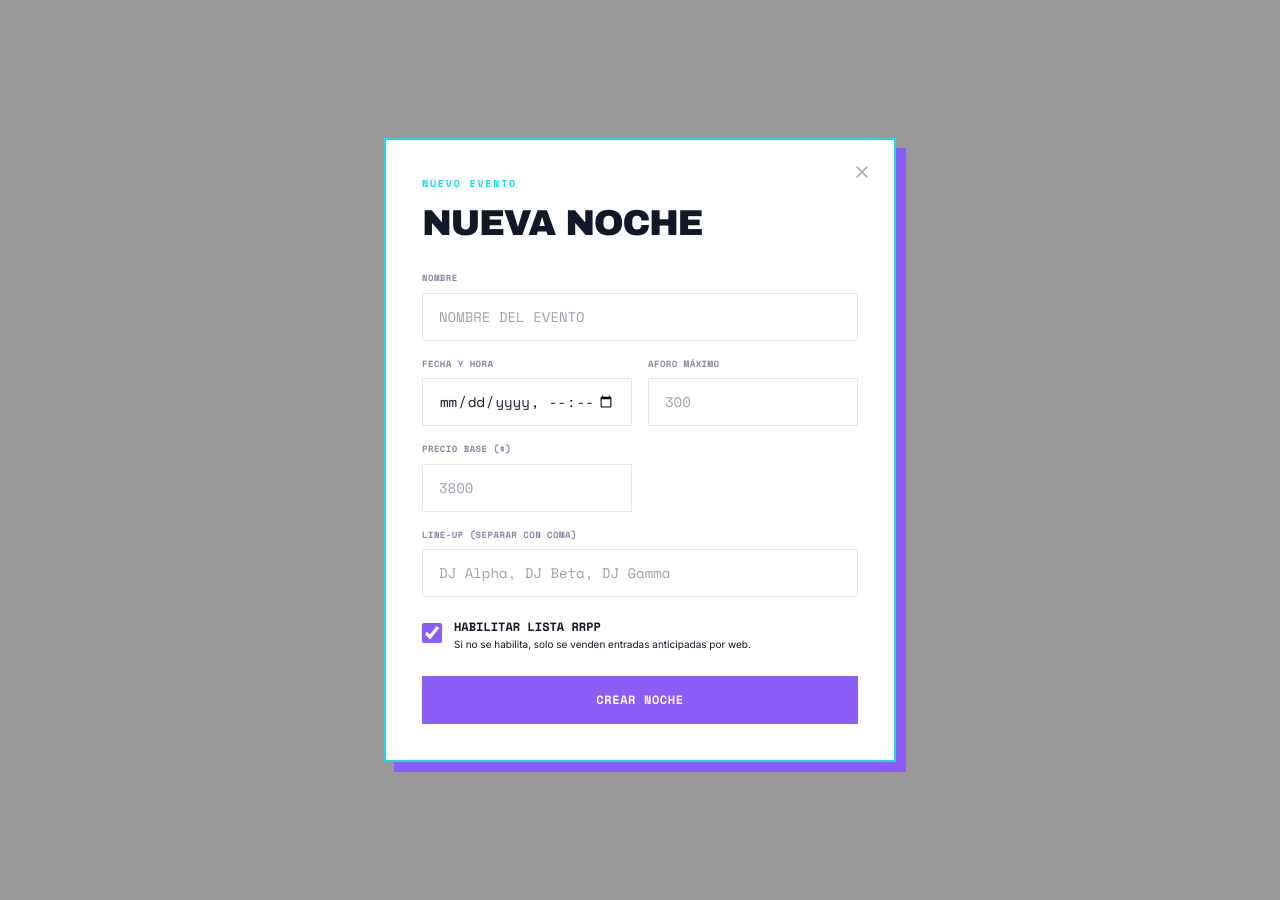
Test: NocheFormModal › error handling › shows API error on 405
Type "X" into the field with test id "input-nombre" at (640, 316), box [422,292,858,340]
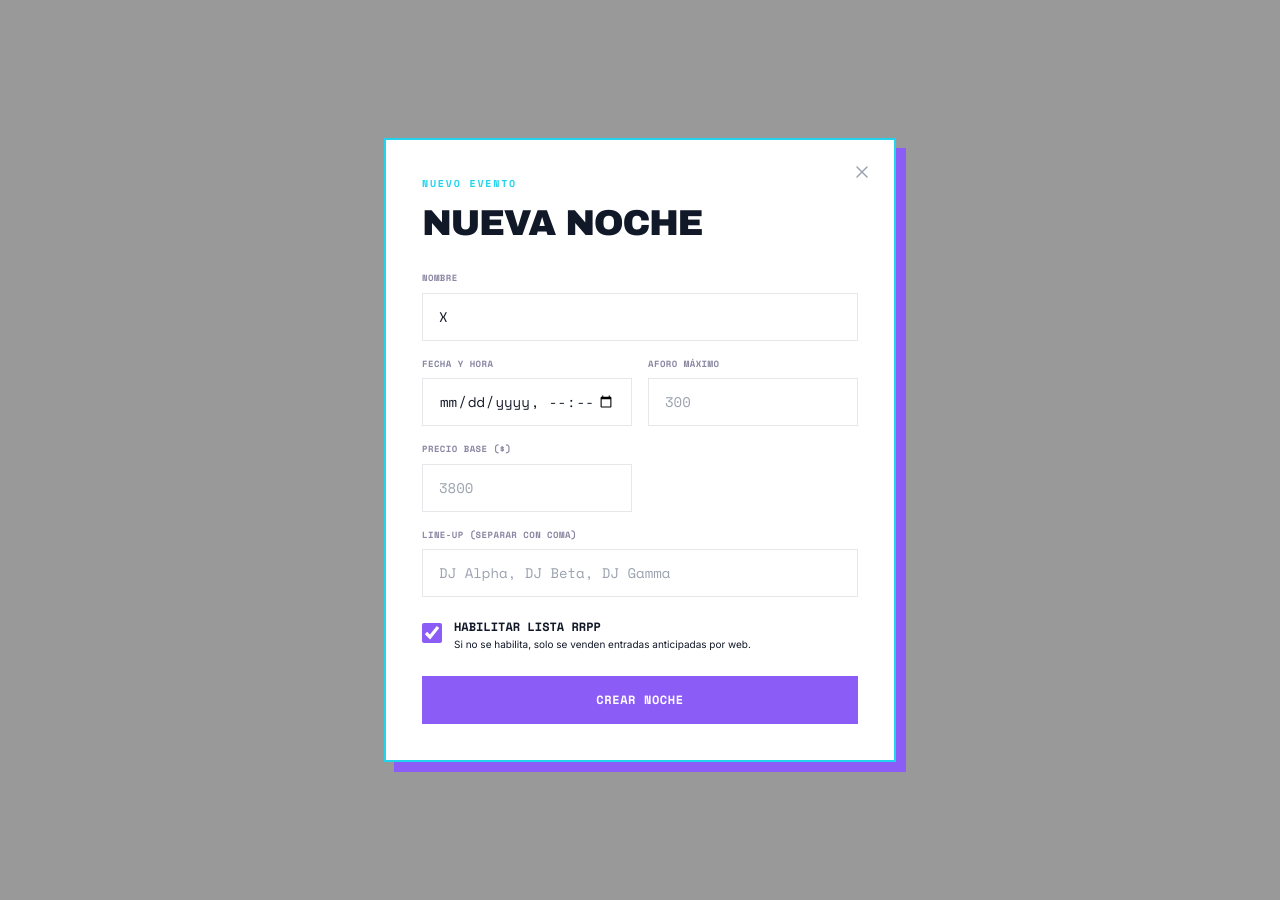
Type "2026-09-01T23:00" into the field with test id "input-fecha" at (527, 402), box [422,378,632,426]
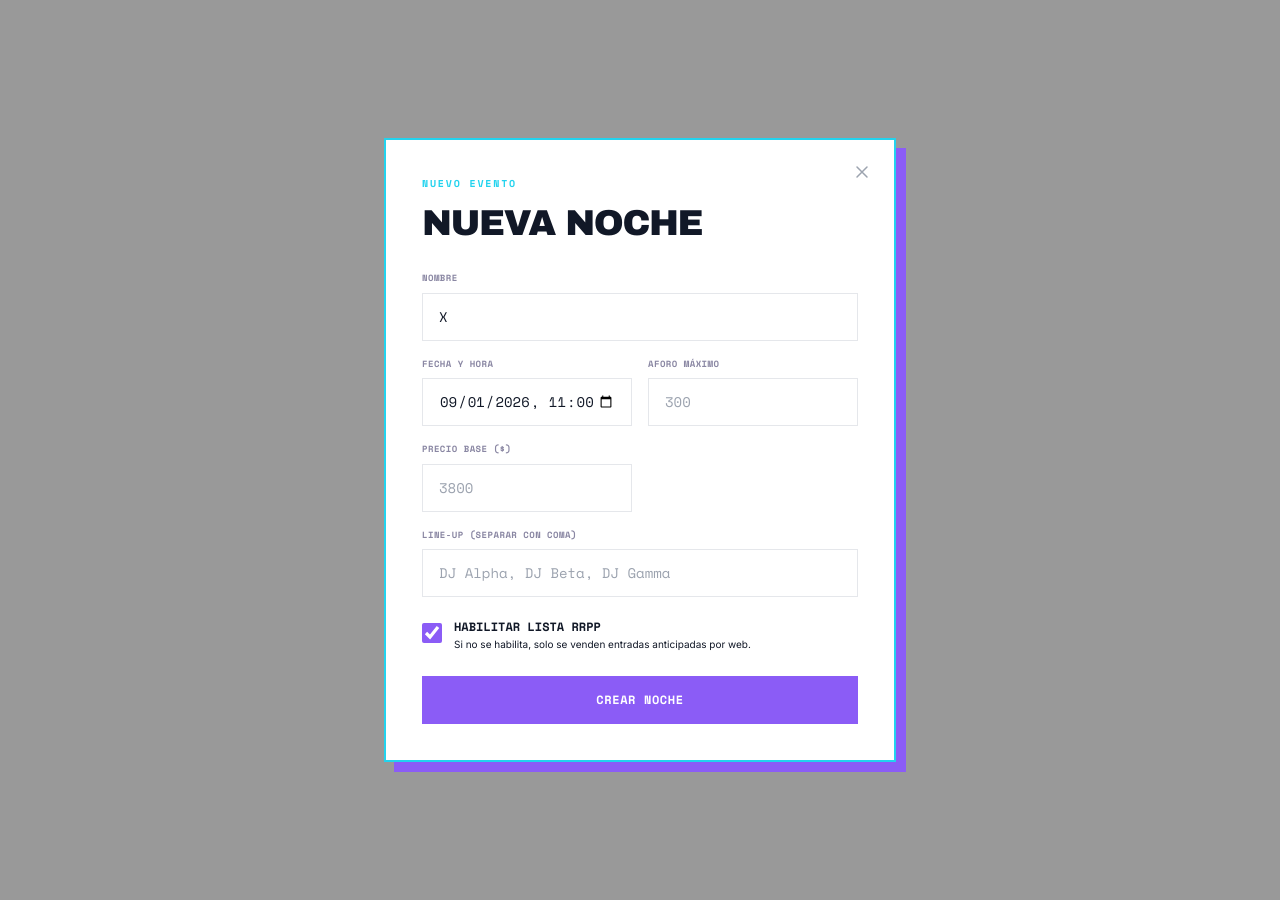
Type "100" into the field with test id "input-aforo" at (753, 402), box [648,378,858,426]
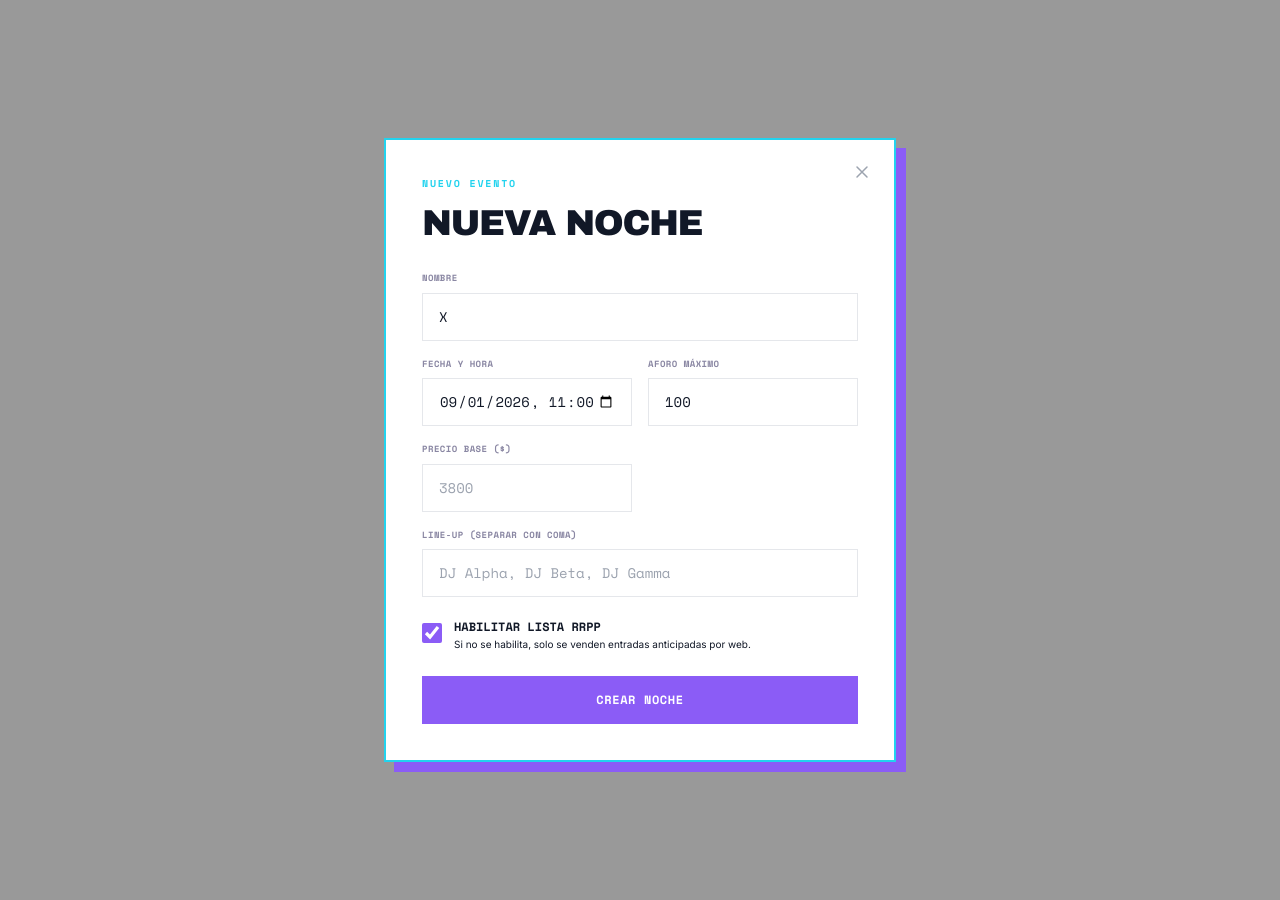
Type "2000" into the field with test id "input-precio" at (527, 488), box [422,464,632,512]
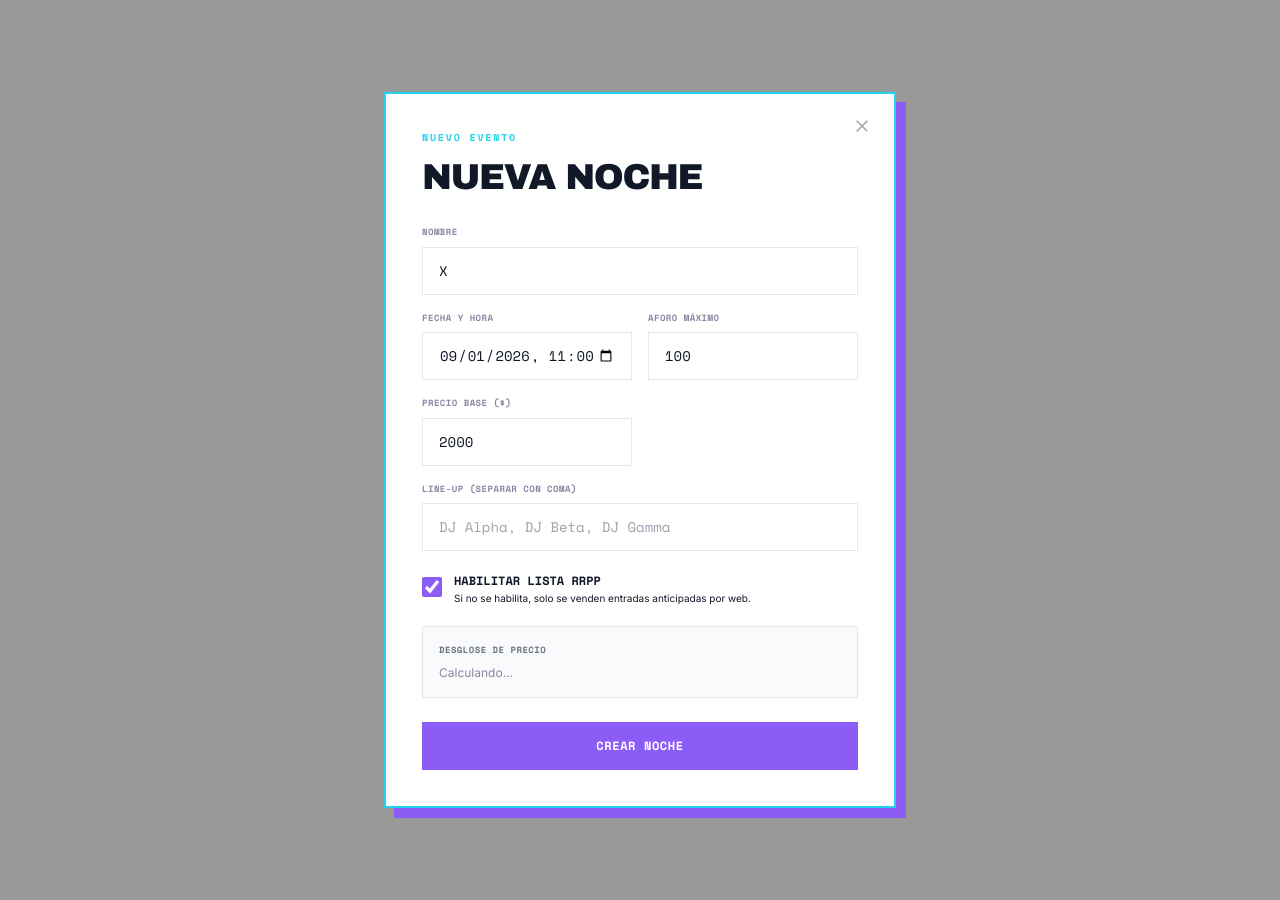
Click the button with test id "submit-btn" at (640, 746), box [422,722,858,770]
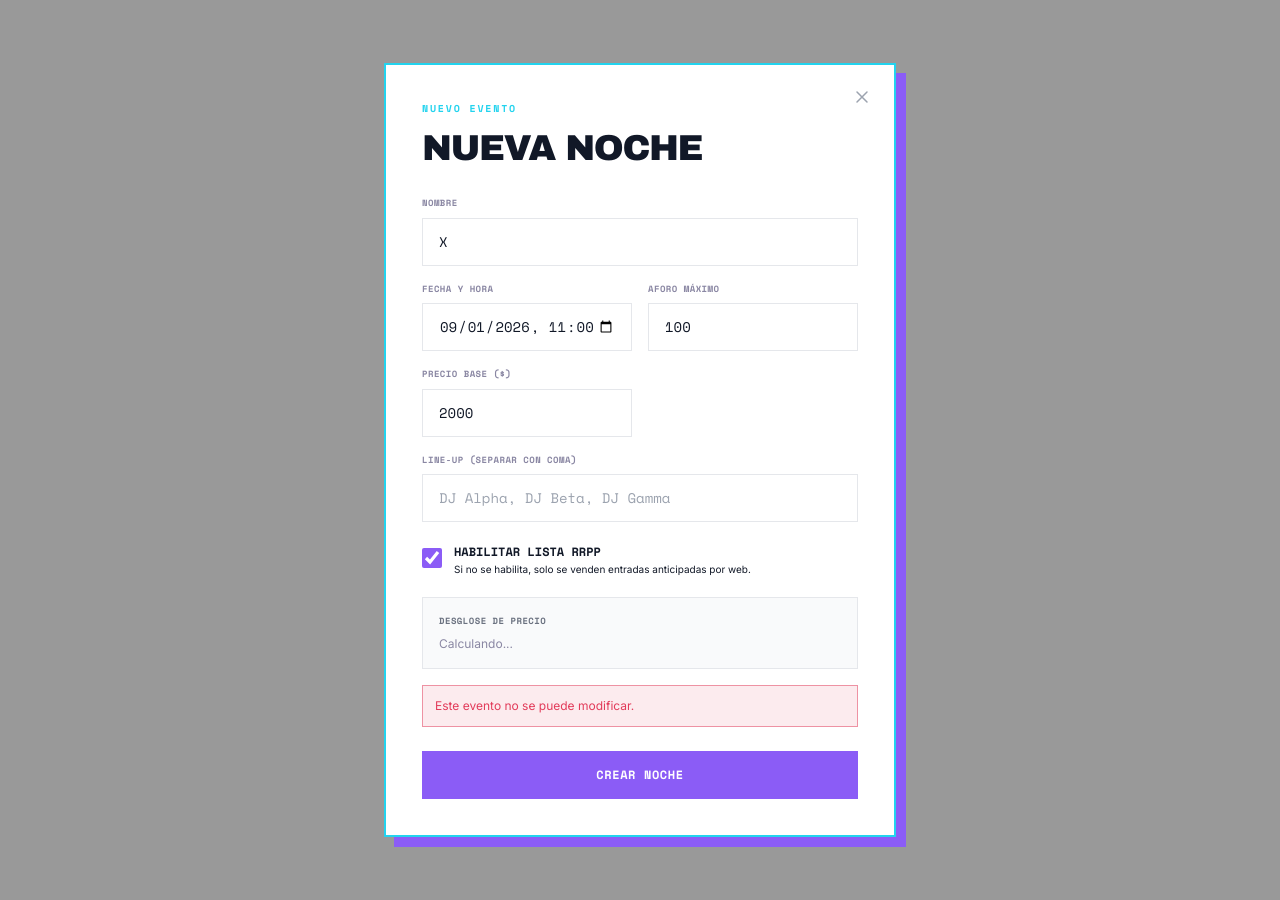
Expected: the text with test id "api-error" shows "no se puede modificar", [435,698,634,713]
